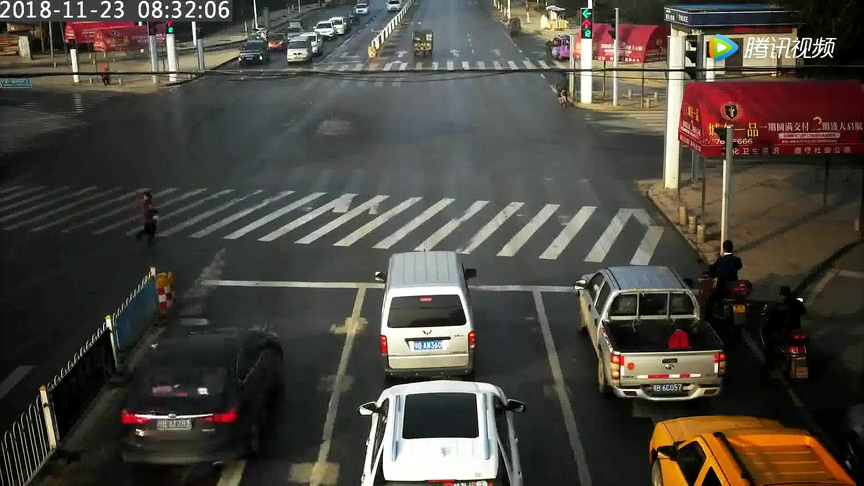car: (562, 265, 734, 420), (114, 320, 293, 466), (349, 377, 534, 486), (367, 246, 503, 377), (279, 31, 326, 69), (406, 20, 444, 64), (233, 34, 271, 78), (313, 14, 339, 38), (350, 1, 372, 19)
person: (696, 227, 750, 350), (134, 190, 169, 257), (96, 66, 119, 91), (553, 69, 570, 101)
